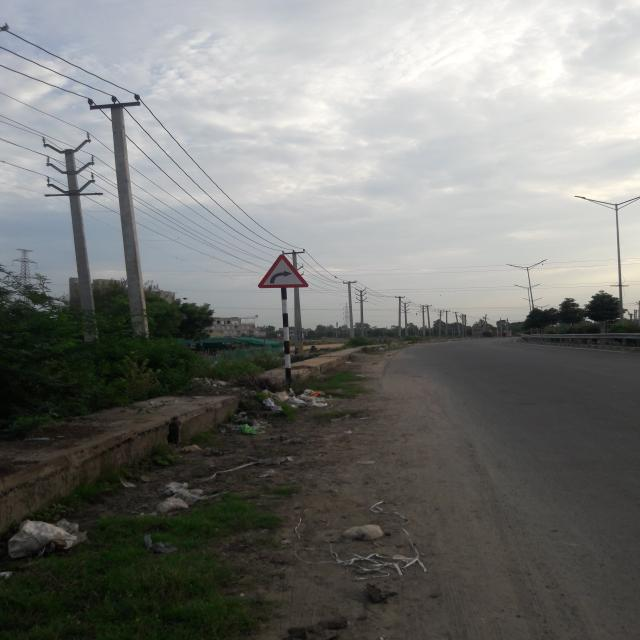right hand curve: (255, 253, 310, 289)
